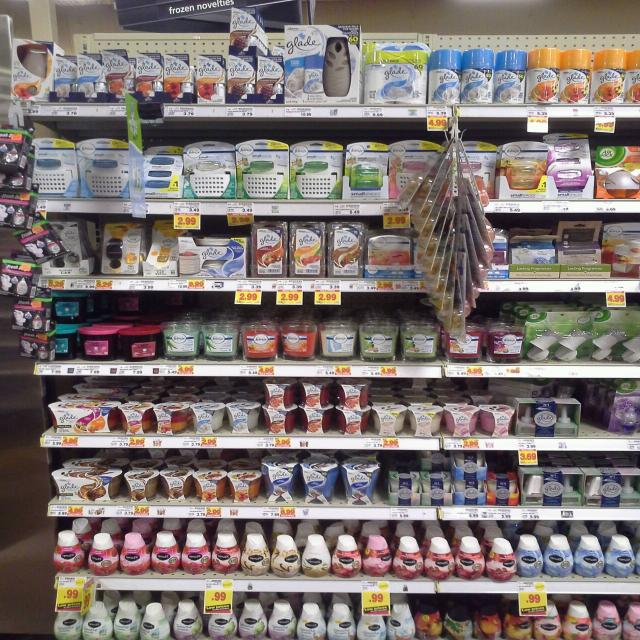empty: (581, 389, 612, 438)
